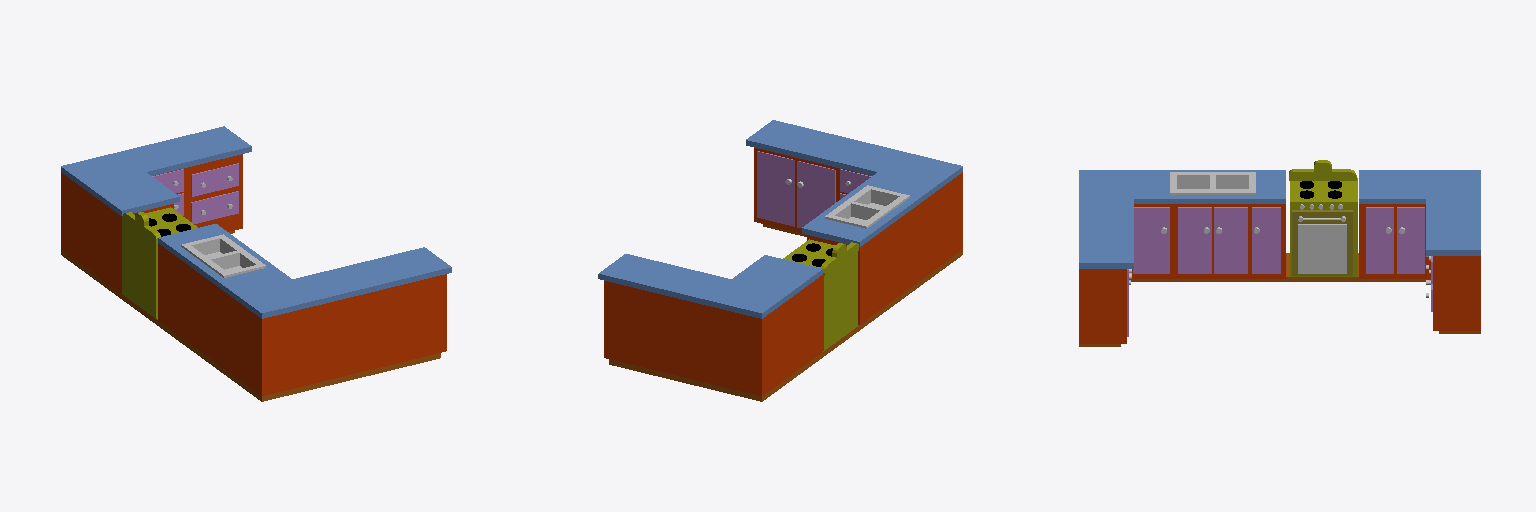
3 views of the same model, side by side, from view 1: azimuth 30°, elevation 25°; view 2: azimuth 150°, elevation 25°; view 3: azimuth 270°, elevation 25° (orthographic).
Visible parts, largest first — view 1: Box001, Box002, Box016, Box017, Box018, Box019, Box015, Box024, Box003, Box033, Box008, Box009 (+1 smaller); view 2: Box001, Box003, Box016, Box017, Box018, Box019, Box015, Box014, Box013, Box024, Box033, Box002 (+1 smaller); view 3: Box016, Box018, Box001, Box017, Box002, Box003, Box019, Box032, Box028, Box025, Box026, Box015 (+7 smaller).
Part boxes in pixels (x1,y1,x2,y2): Box001: (61,172,314,395); Box002: (315,274,446,382); Box016: (158,224,319,318); Box017: (293,247,451,304); Box018: (61,152,179,215); Box019: (119,126,251,175); Box015: (122,207,197,318); Box024: (181,234,265,277); Box003: (155,154,242,231); Box033: (61,250,308,401); Box008: (191,163,238,196); Box009: (191,191,238,223); Box001: (709,172,962,395); Box003: (604,281,708,382); Box016: (802,152,962,247); Box017: (746,120,904,175); Box018: (704,255,822,318); Box019: (598,254,730,304); Box015: (783,239,857,350); Box014: (757,151,794,226); Box013: (797,161,835,227); Box024: (825,185,909,228); Box033: (715,250,962,401); Box002: (754,148,868,232); Box016: (1079,170,1285,203); Box018: (1359,170,1480,203); Box001: (1132,204,1430,278); Box017: (1079,199,1133,268); Box002: (1079,269,1126,343); Box003: (1433,256,1480,330); Box019: (1426,199,1480,255); Box032: (1298,224,1346,273); Box028: (1133,207,1169,273); Box025: (1178,207,1211,273); Box026: (1214,207,1247,273); Box015: (1290,178,1357,276).
Size of the model in its own units: 18.05 by 8.9 by 33.
8 materials, 8 textured.